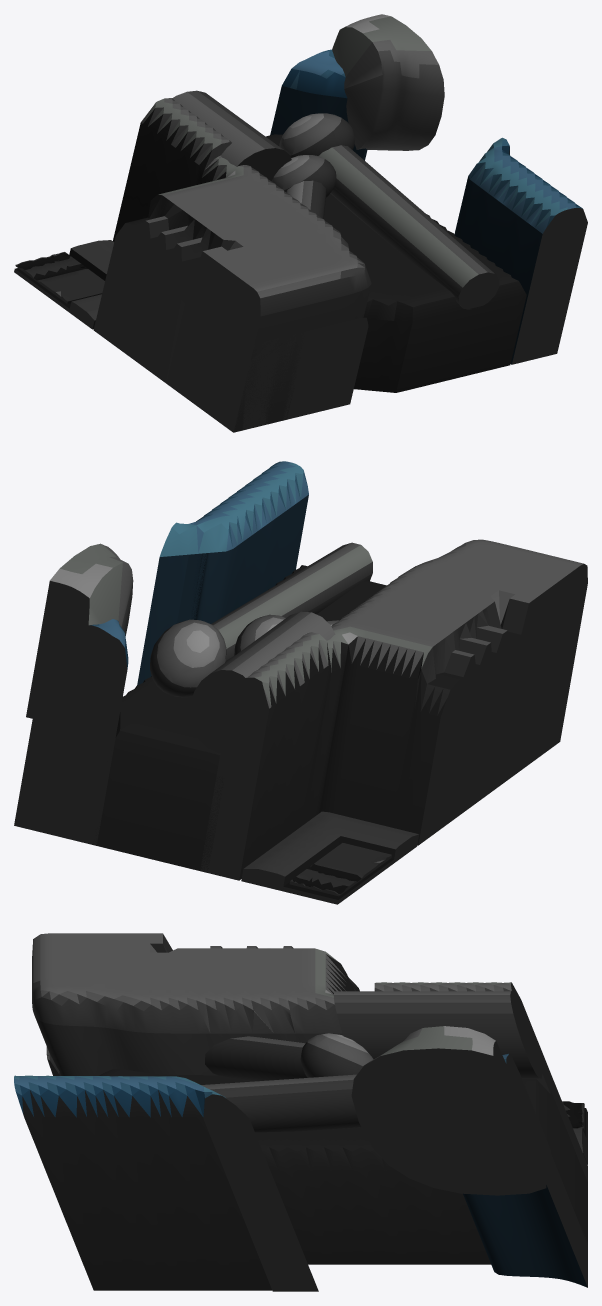
The model's file is fleet_walker_81.glb.
3 views of the same model, one above another, from view 1: azimuth 30°, elevation 25°; view 2: azimuth 150°, elevation 25°; view 3: azimuth 270°, elevation 25° (orthographic). The views are drawn at different scales.
Visible parts, largest first — view 1: fleet_walker_81; view 2: fleet_walker_81; view 3: fleet_walker_81.
Boxes of the visible parts, x1,y1,x2,y2 form: fleet_walker_81: (14,14,587,432); fleet_walker_81: (14,461,587,904); fleet_walker_81: (14,933,587,1291).
Size of the model in its own units: 24 by 15.2 by 32.51.
